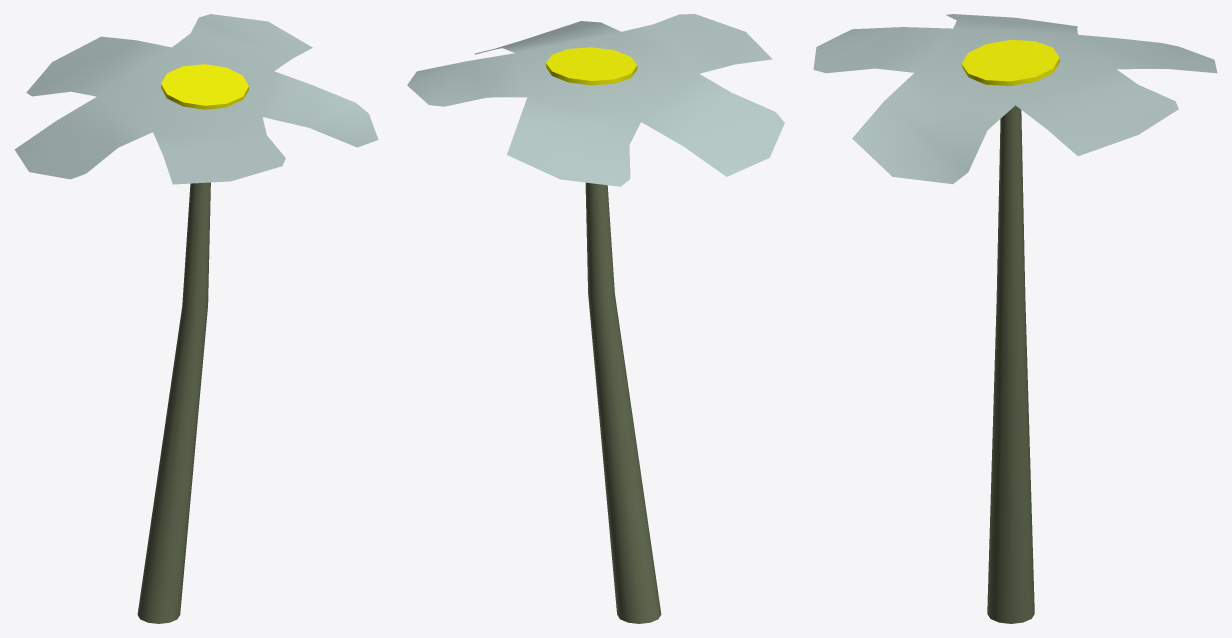
The model's file is groene bloem.fbx.
The picture shows the model from 3 angles, left to right: view 1: azimuth 30°, elevation 25°; view 2: azimuth 150°, elevation 25°; view 3: azimuth 270°, elevation 25°; orthographic projection. The views are drawn at different scales.
Visible parts, largest first — view 1: polySurface150; view 2: polySurface150; view 3: polySurface150.
Boxes of the visible parts, x1,y1,x2,y2 form: polySurface150: (14, 14, 378, 623); polySurface150: (407, 14, 784, 623); polySurface150: (813, 14, 1217, 623).
Bounding box in the file's own units: 0.2732 × 0.4364 × 0.2749.
